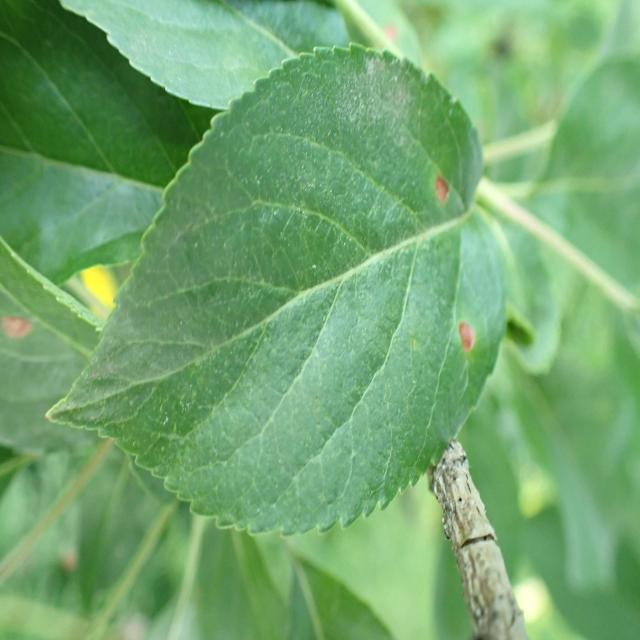Black Rot: (0, 285, 37, 368), (451, 303, 477, 376), (425, 166, 461, 217)
